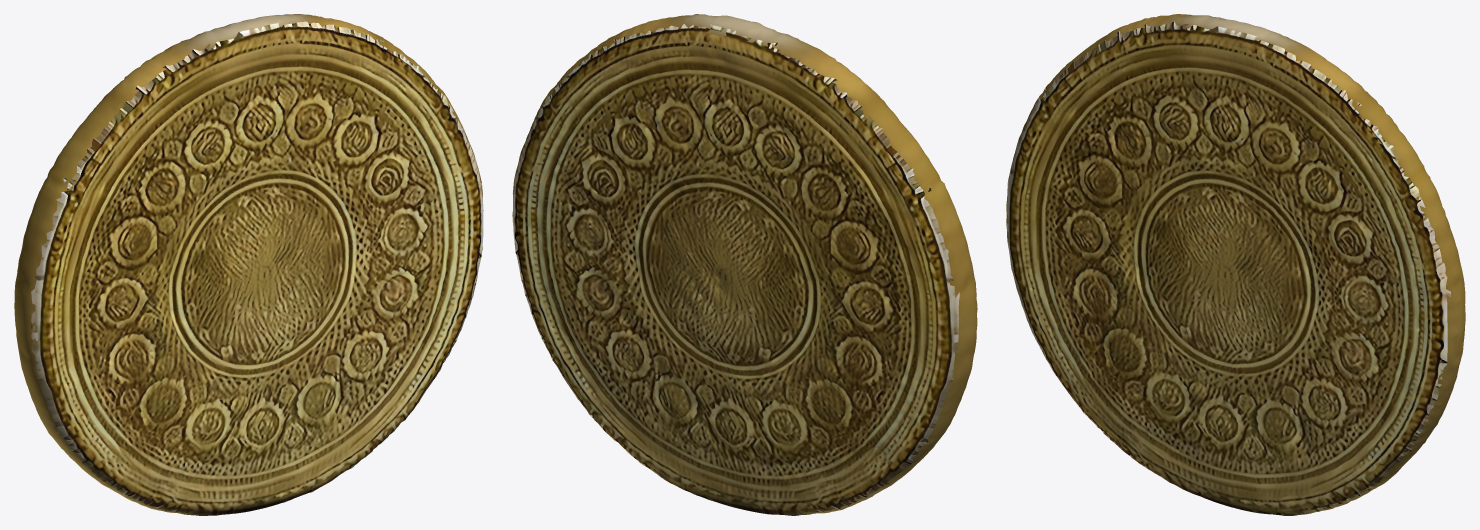
Rendered from kfl-2314.glb.
3 views of the same model, side by side, from view 1: azimuth 30°, elevation 25°; view 2: azimuth 150°, elevation 25°; view 3: azimuth 330°, elevation 25° (orthographic).
Visible parts, largest first — view 1: kfl-2314; view 2: kfl-2314; view 3: kfl-2314.
Part boxes in pixels (x1,y1,x2,y2): kfl-2314: (14,14,483,515); kfl-2314: (512,14,977,515); kfl-2314: (1006,14,1465,515).
Size of the model in its own units: 0.9781 by 0.9931 by 0.1263.
4 materials, 4 textured.
